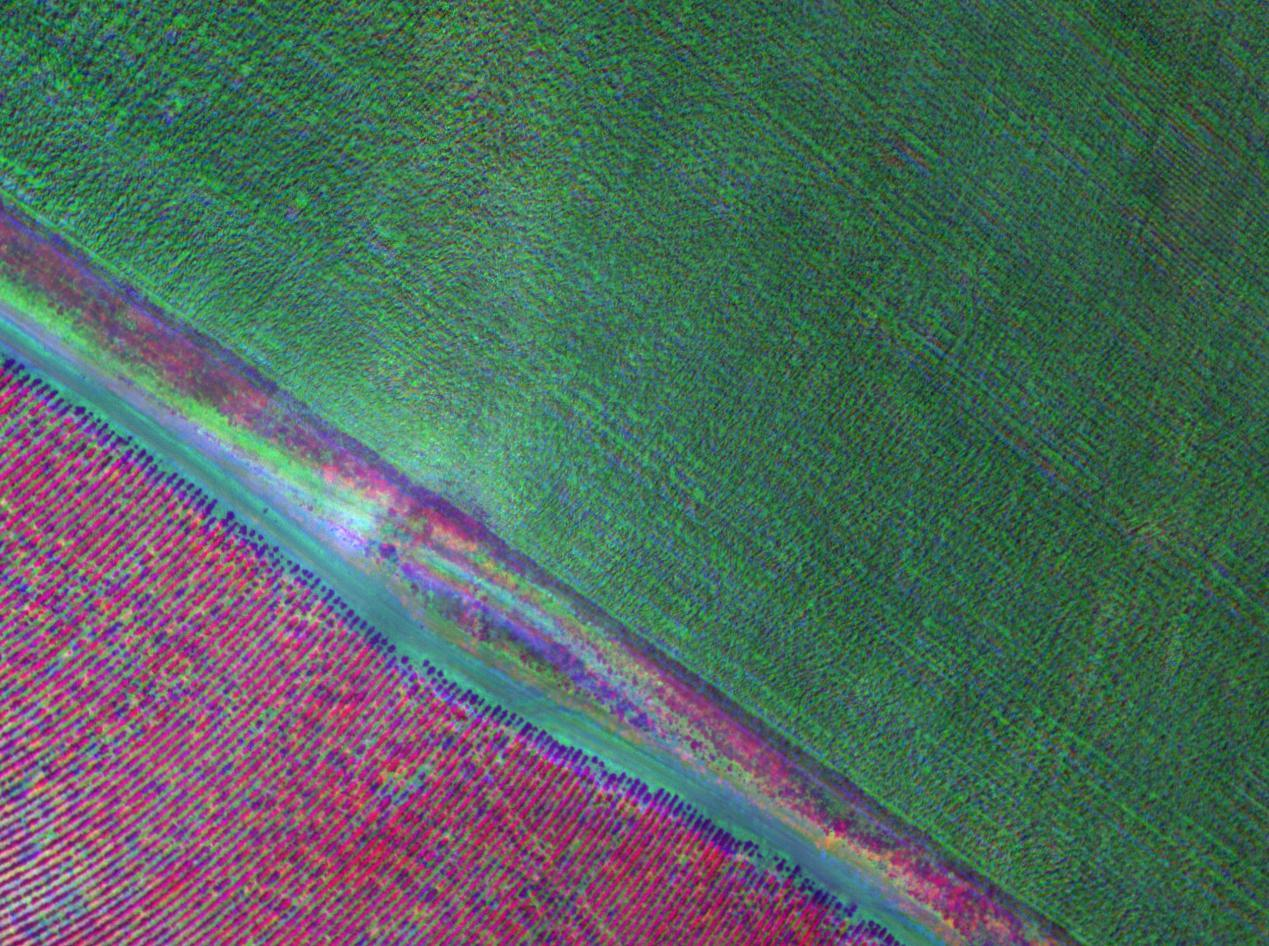dc: (11, 813, 114, 932), (0, 410, 63, 527), (156, 688, 276, 748), (341, 730, 432, 803), (56, 565, 132, 652)
